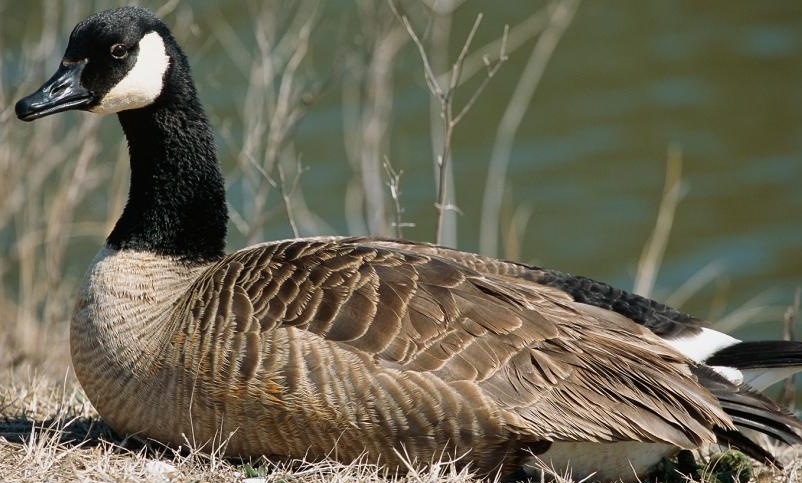goose: (9, 4, 802, 479)
